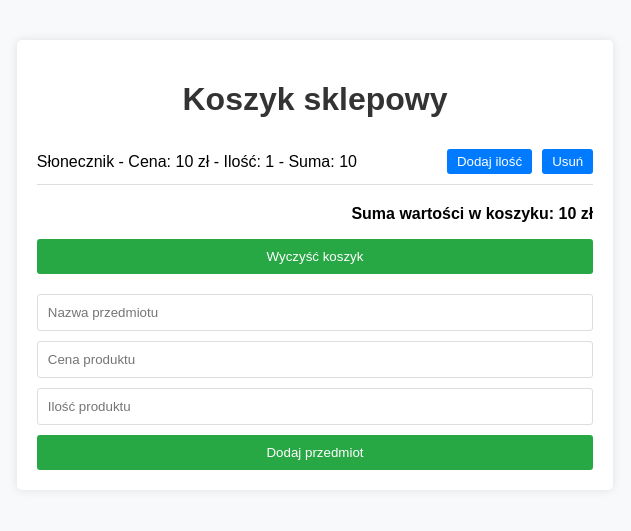
Test: Shopping Cart › adds an item to the cart
Type "Jabłko" into the field with placeholder "Nazwa przedmiotu".
click(315, 313); type("Jabłko")  # box [37,294,593,331]
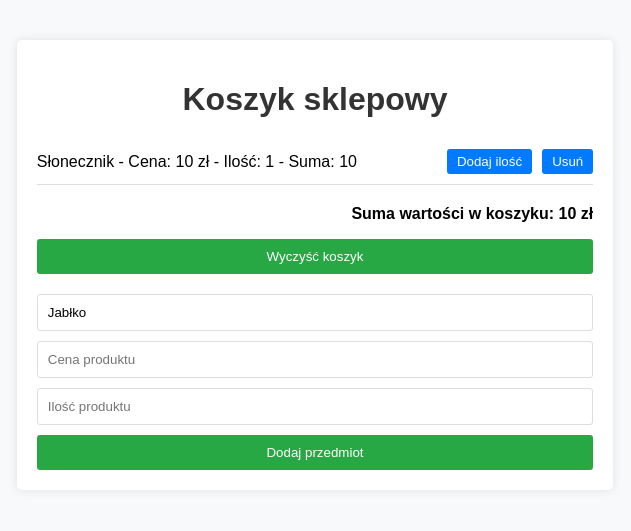
Type "5" into the number field with placeholder "Cena produktu".
click(315, 360); type("5")  # box [37,341,593,378]
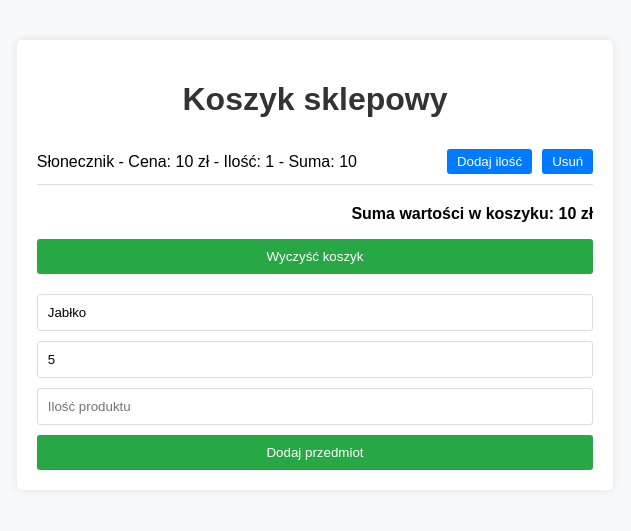
Type "3" into the number field with placeholder "Ilość produktu".
click(315, 407); type("3")  # box [37,388,593,425]
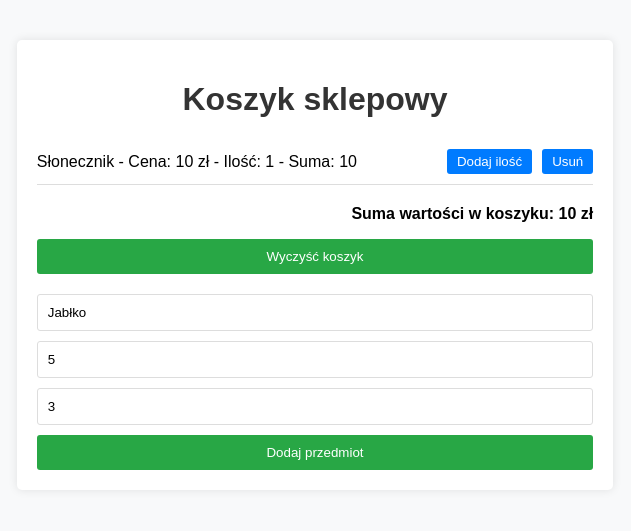
Click the button "Dodaj przedmiot".
click(315, 453)  # box [37,435,593,470]
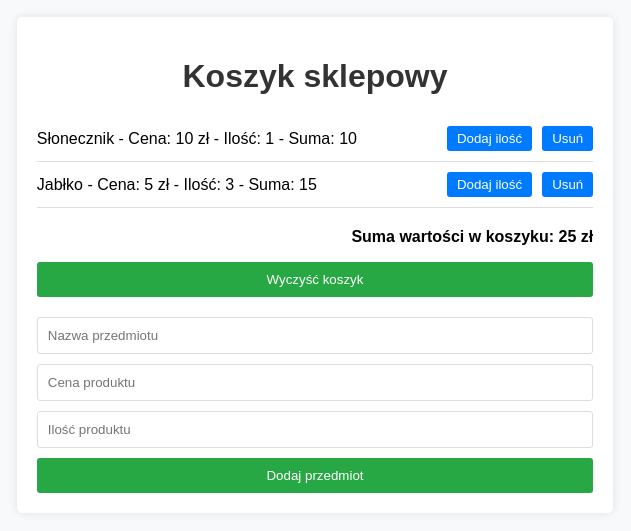
Result: the text "Jabłko - Cena: 5 zł - Ilość: 3 - Suma: 15" is shown at [37,176,317,194]
Result: the text "Suma wartości w koszyku: 25 zł" is shown at [351,228,593,245]
